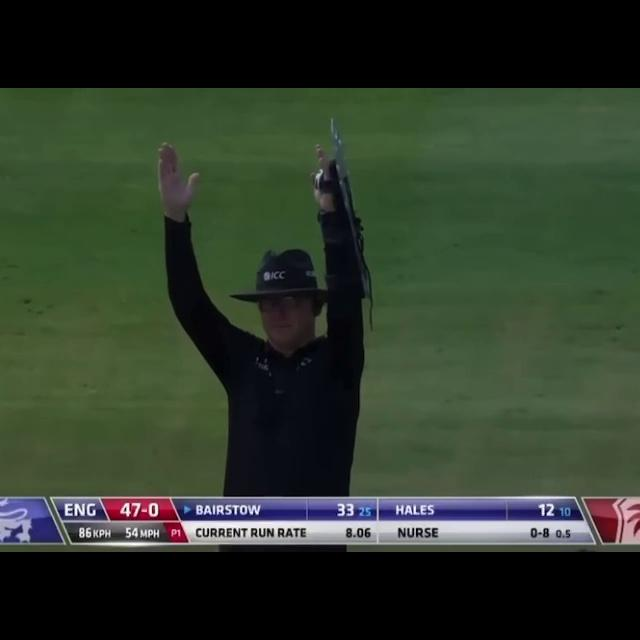umpire: (143, 115, 386, 494)
